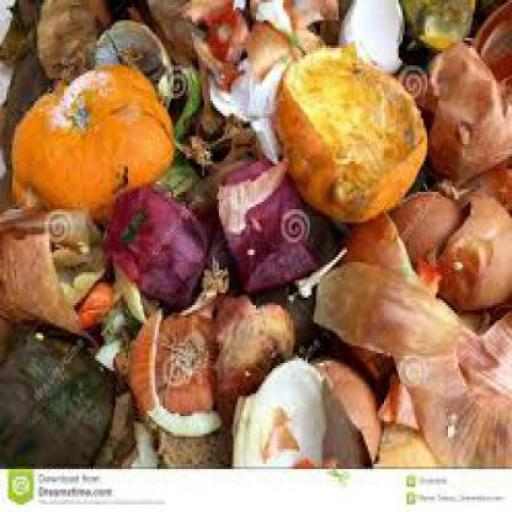biodegradable: (312, 260, 510, 464), (273, 43, 425, 222), (10, 60, 172, 217), (0, 322, 110, 466), (215, 159, 328, 293), (411, 37, 510, 189), (0, 202, 106, 338), (113, 300, 219, 434), (101, 181, 204, 306), (208, 288, 295, 422), (425, 189, 510, 311), (232, 353, 322, 464), (0, 0, 48, 202), (91, 15, 171, 114), (312, 356, 380, 466), (206, 60, 281, 156), (210, 65, 280, 159), (32, 0, 112, 79), (154, 308, 215, 408), (388, 192, 458, 266), (336, 0, 404, 74), (116, 0, 192, 58), (334, 214, 409, 267), (89, 384, 134, 464), (144, 0, 204, 58), (398, 0, 473, 46), (471, 0, 510, 84), (241, 20, 299, 74), (188, 28, 239, 86), (374, 421, 442, 464), (202, 5, 248, 63), (287, 0, 338, 46), (215, 113, 258, 161), (172, 68, 202, 136), (465, 166, 510, 209), (162, 154, 204, 194), (72, 283, 114, 318), (127, 416, 157, 462), (178, 0, 233, 23), (251, 0, 288, 28), (182, 129, 208, 164), (456, 304, 488, 330)
